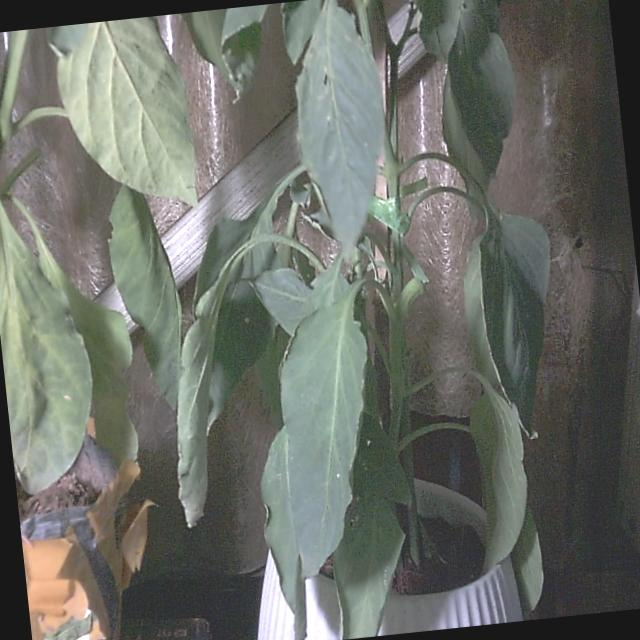Leaf: (13, 200, 137, 463), (0, 203, 91, 493), (56, 18, 196, 204), (296, 0, 383, 253), (464, 215, 549, 429), (109, 186, 181, 407), (469, 385, 526, 569), (333, 493, 403, 638), (182, 9, 260, 96), (510, 507, 543, 617), (281, 0, 321, 63)
